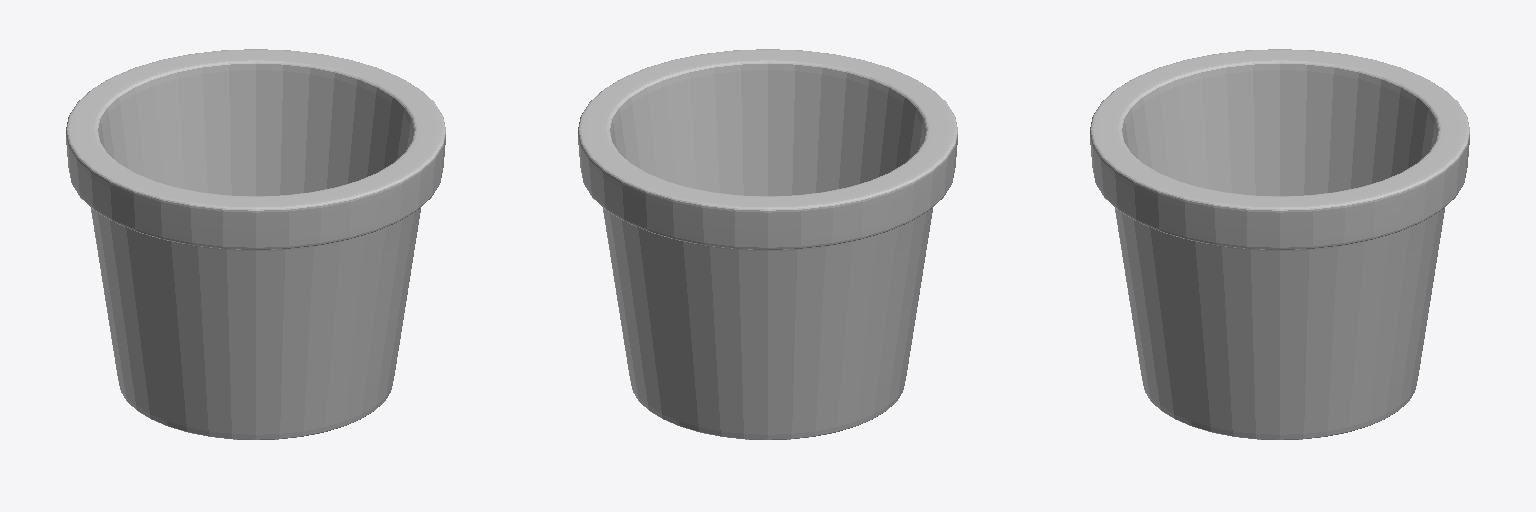
Rendered from planter.obj.
The picture shows the model from 3 angles: view 1: azimuth 30°, elevation 25°; view 2: azimuth 150°, elevation 25°; view 3: azimuth 270°, elevation 25°; orthographic projection.
Visible parts, largest first — view 1: Cylinder.001; view 2: Cylinder.001; view 3: Cylinder.001.
Boxes of the visible parts, x1=… form: Cylinder.001: x1=66, y1=49, x2=445, y2=439; Cylinder.001: x1=578, y1=49, x2=957, y2=439; Cylinder.001: x1=1090, y1=49, x2=1469, y2=439.
Bounding box in the file's own units: 2.72 × 2.01 × 2.72.